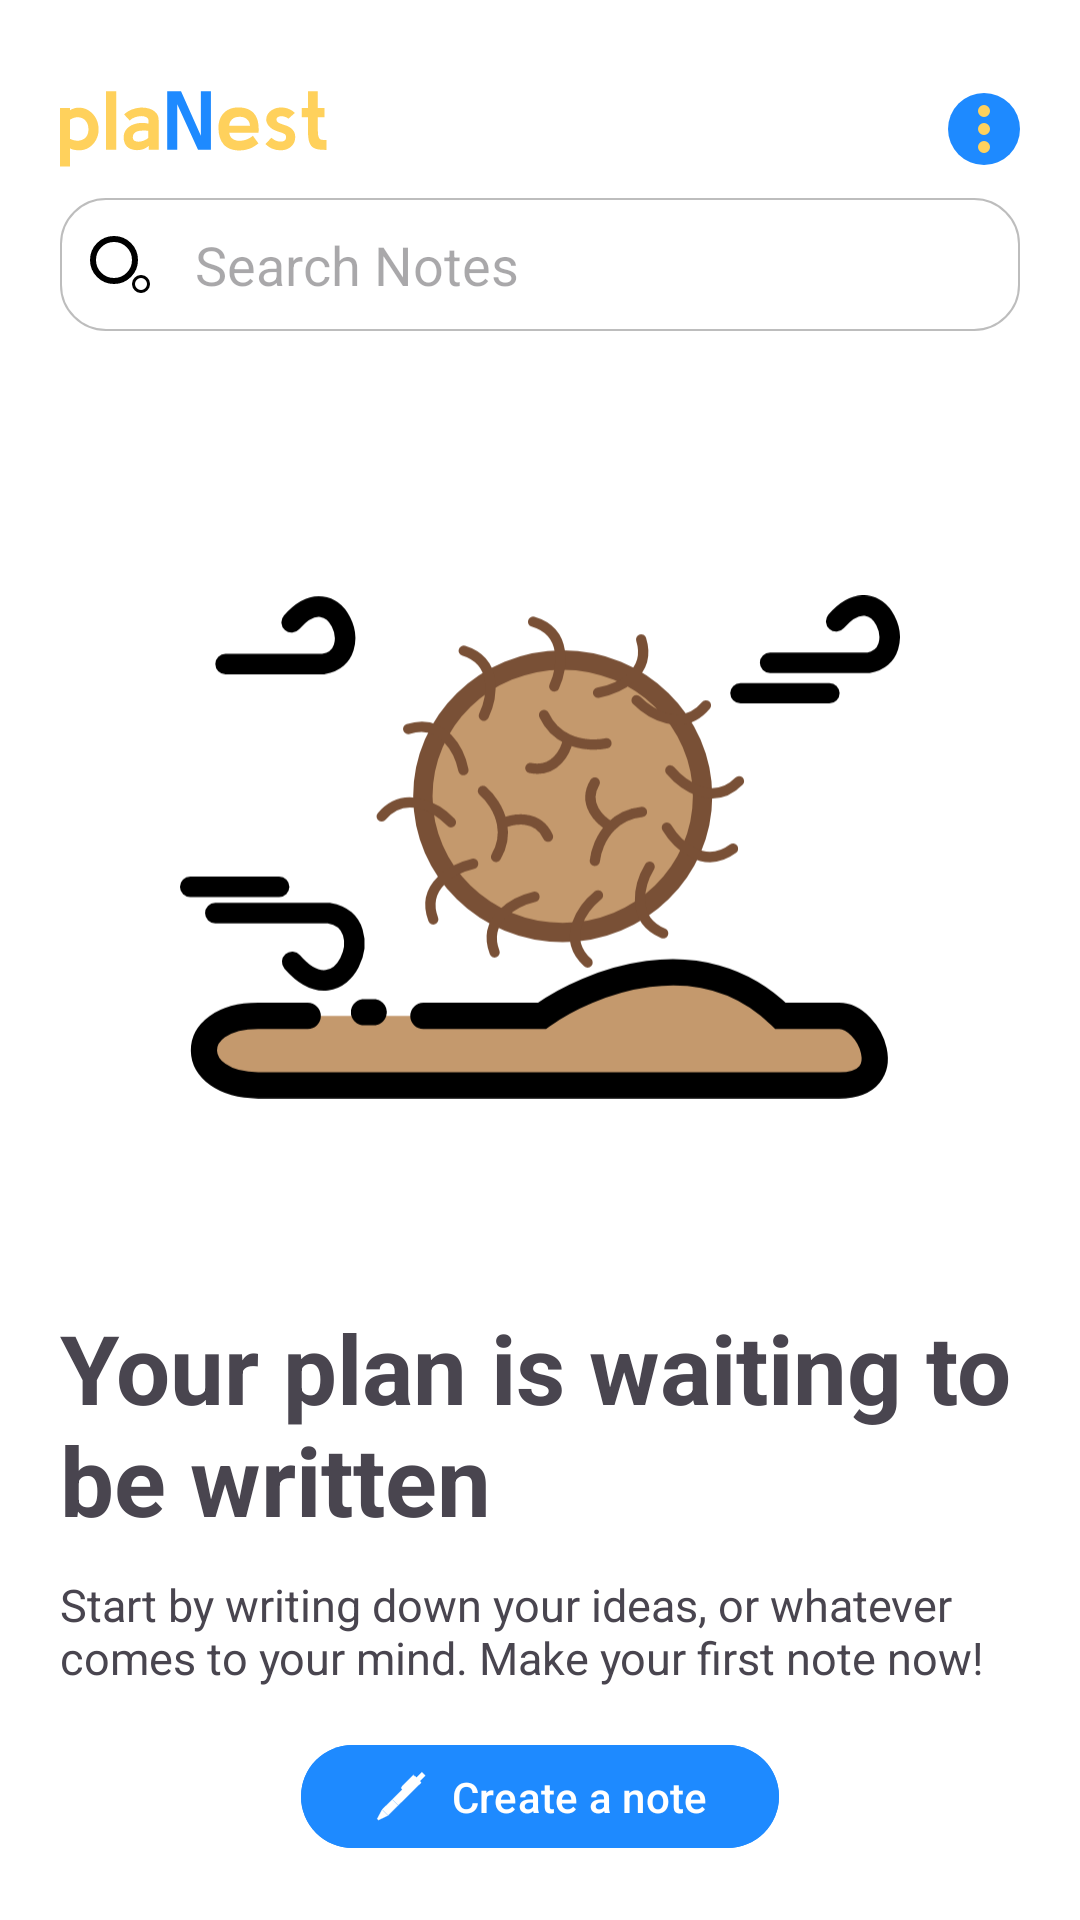

Named icons in this screenshot (1080x1920) and their centers, (x,y):
option: (984,129)
